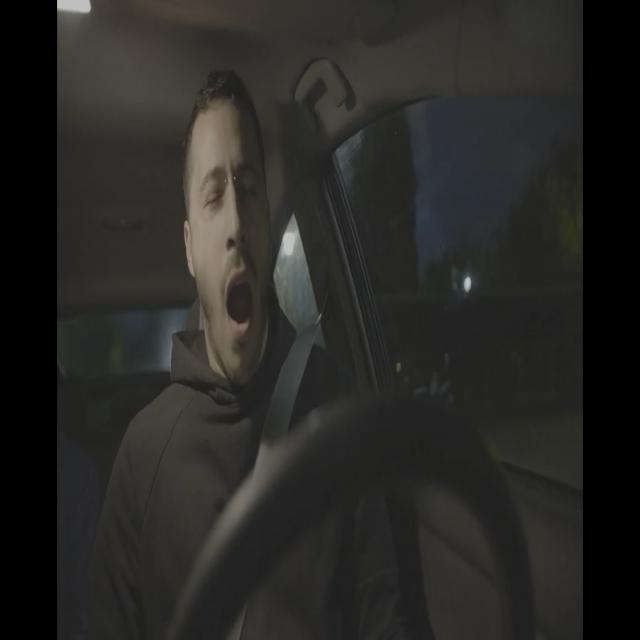open-mouth: (222, 262, 256, 344)
